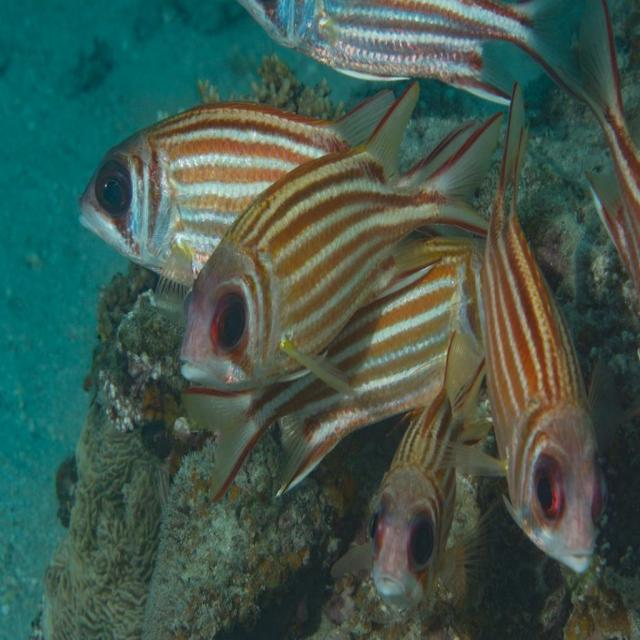Asker Baligi: (154, 145, 450, 396), (479, 78, 608, 575)
